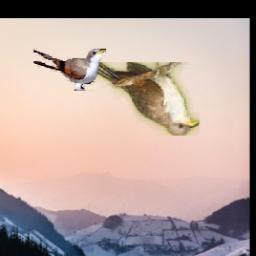Cuckoo: (88, 63, 199, 137), (35, 49, 107, 92)
